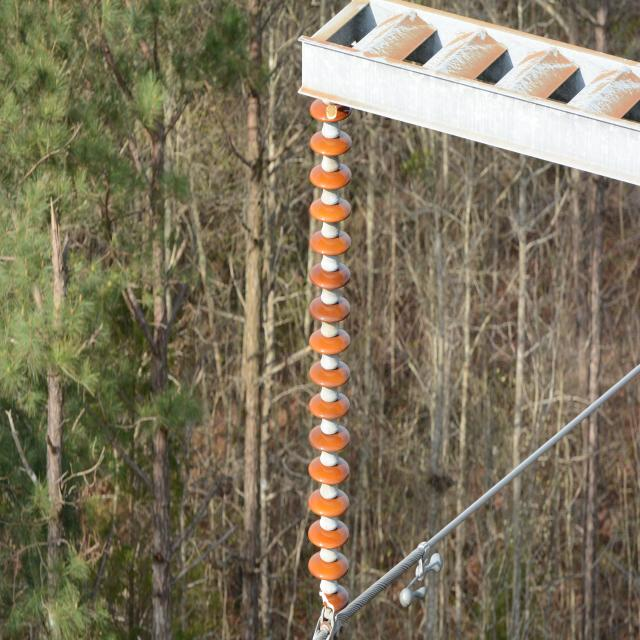broken: (316, 587, 336, 611)
insulator: (306, 94, 350, 612)
